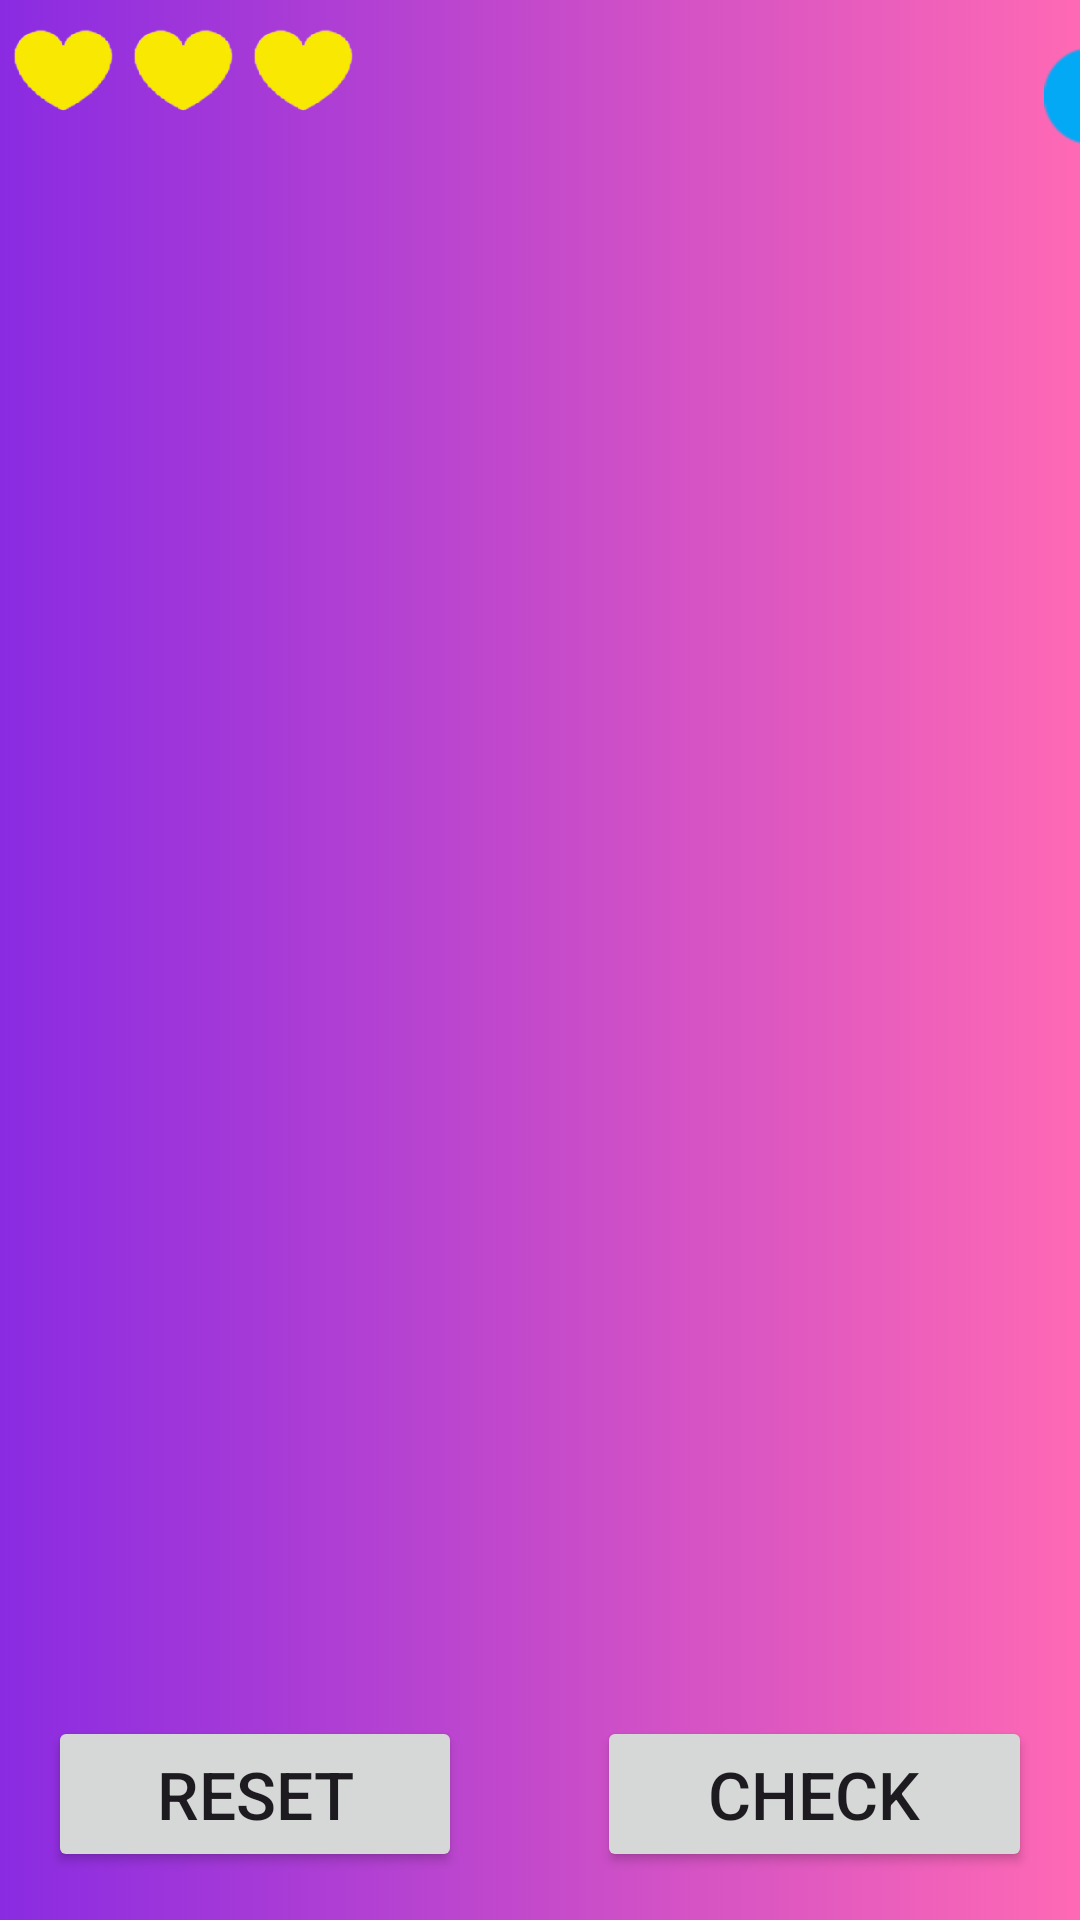

Named icons in this screenshot (1080 x 1920) and their bounding boxes, (x1, y1, x2, y2):
heart: (14, 30, 113, 110), (134, 30, 233, 110), (254, 30, 353, 110)
